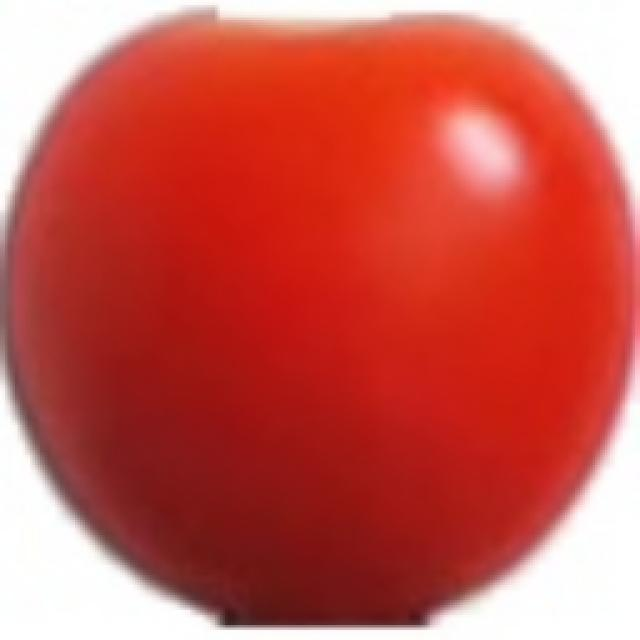tomato: (0, 8, 640, 631)
